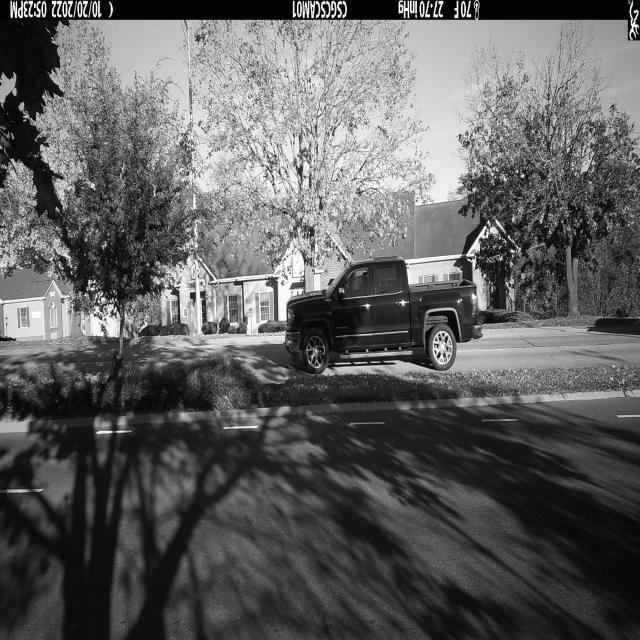Pickup: (285, 257, 483, 375)
